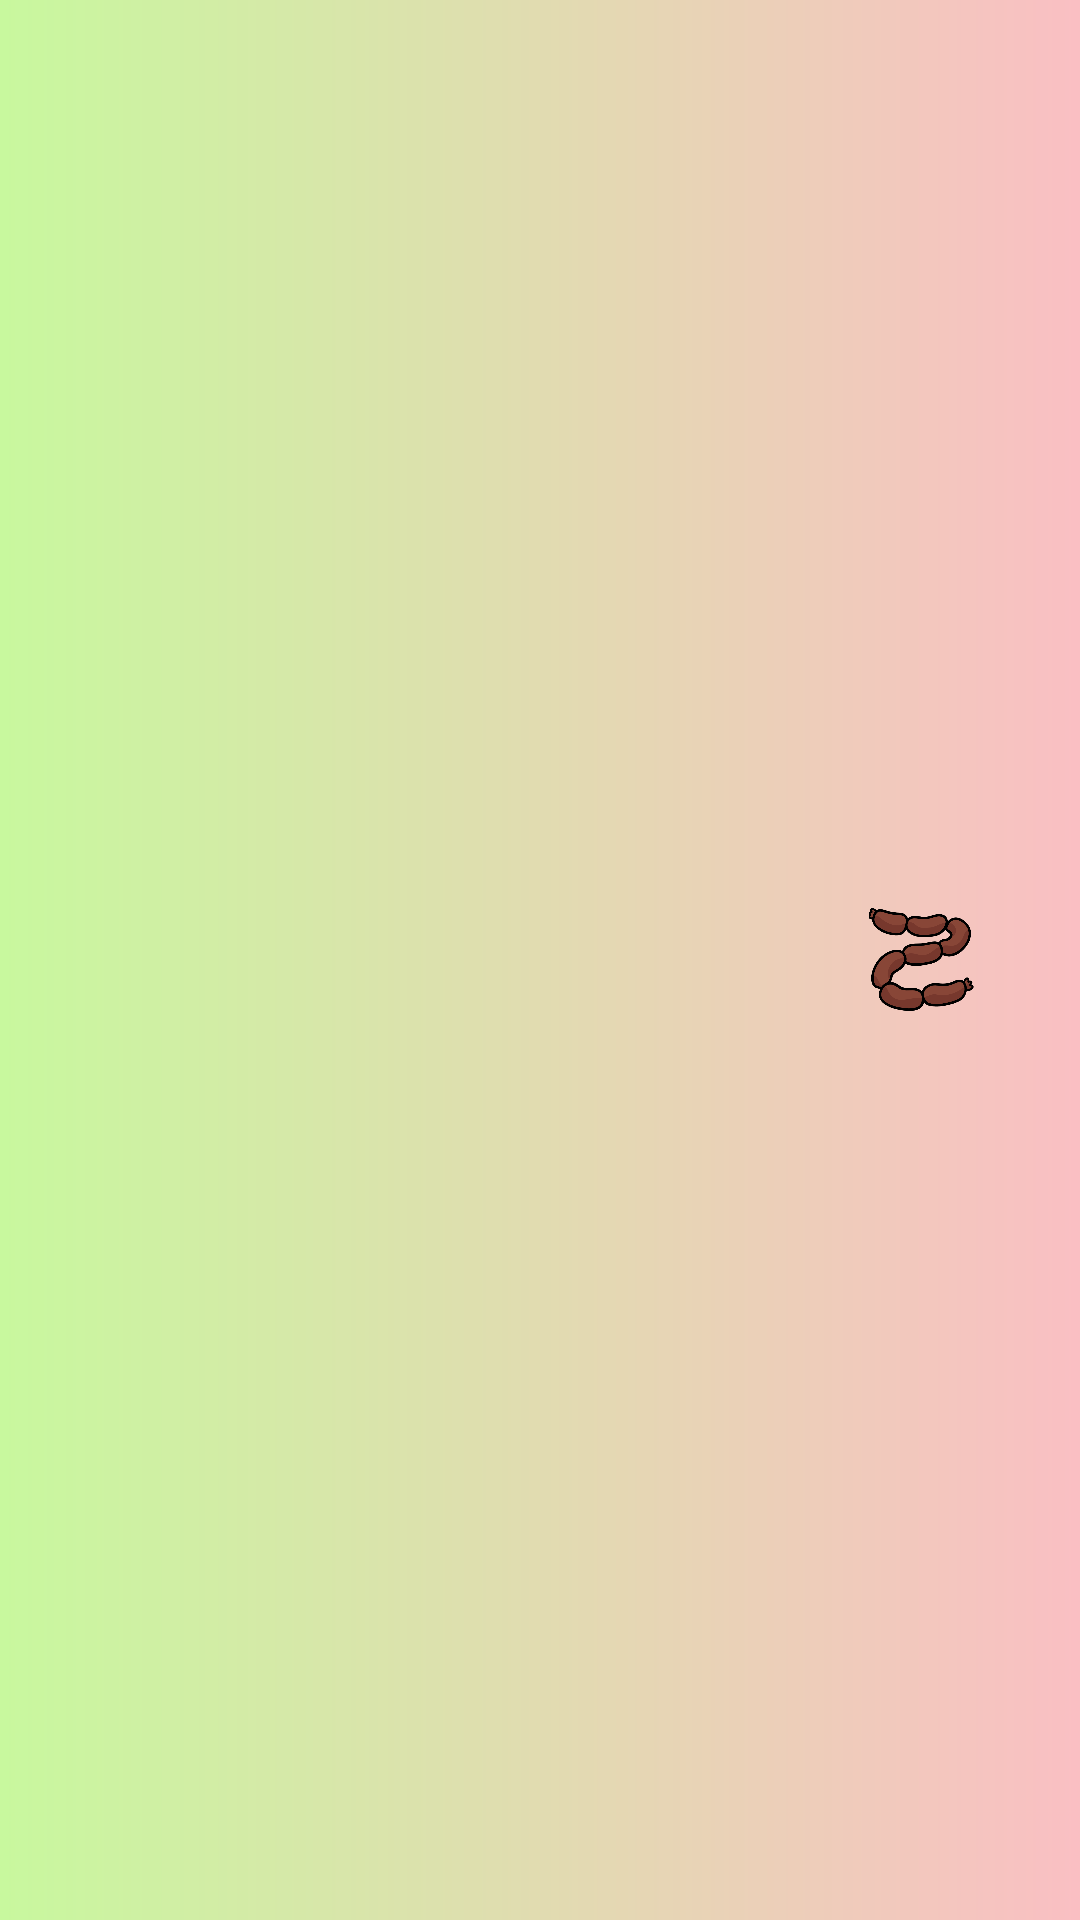

Icons on this 1080px x 1920px Android screen, each with the point to tap as (x=x, y=y):
sausages: (x=921, y=959)
